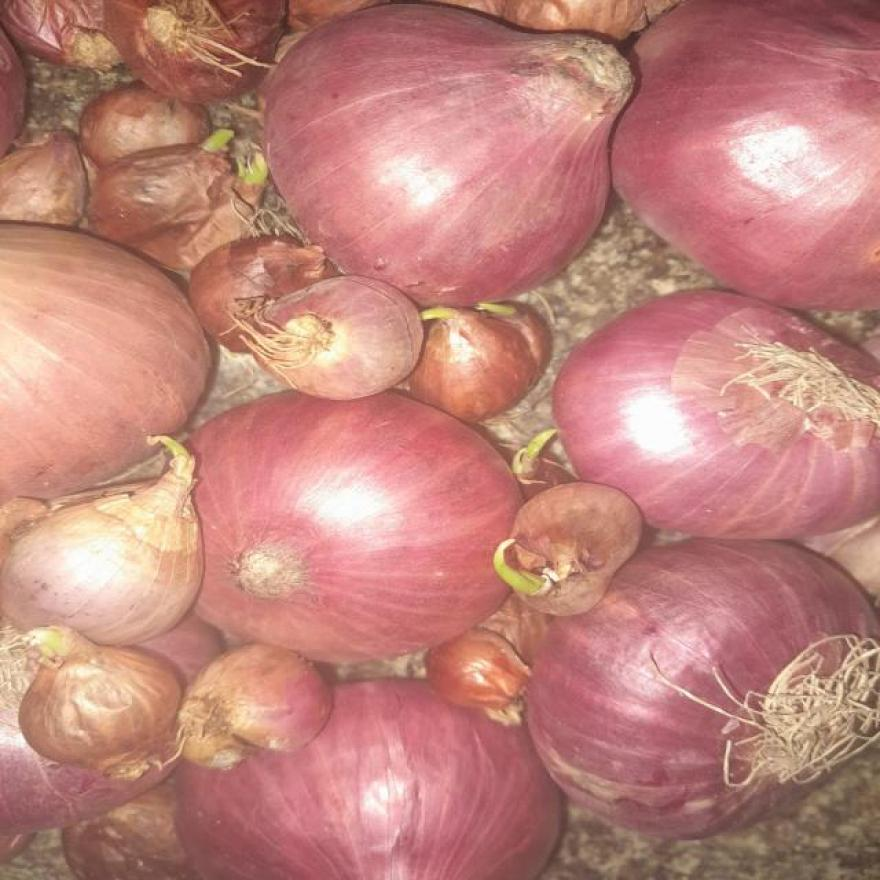Sprouted: (490, 429, 584, 488), (193, 124, 277, 187), (486, 547, 580, 598), (392, 298, 489, 343), (146, 436, 190, 499)
